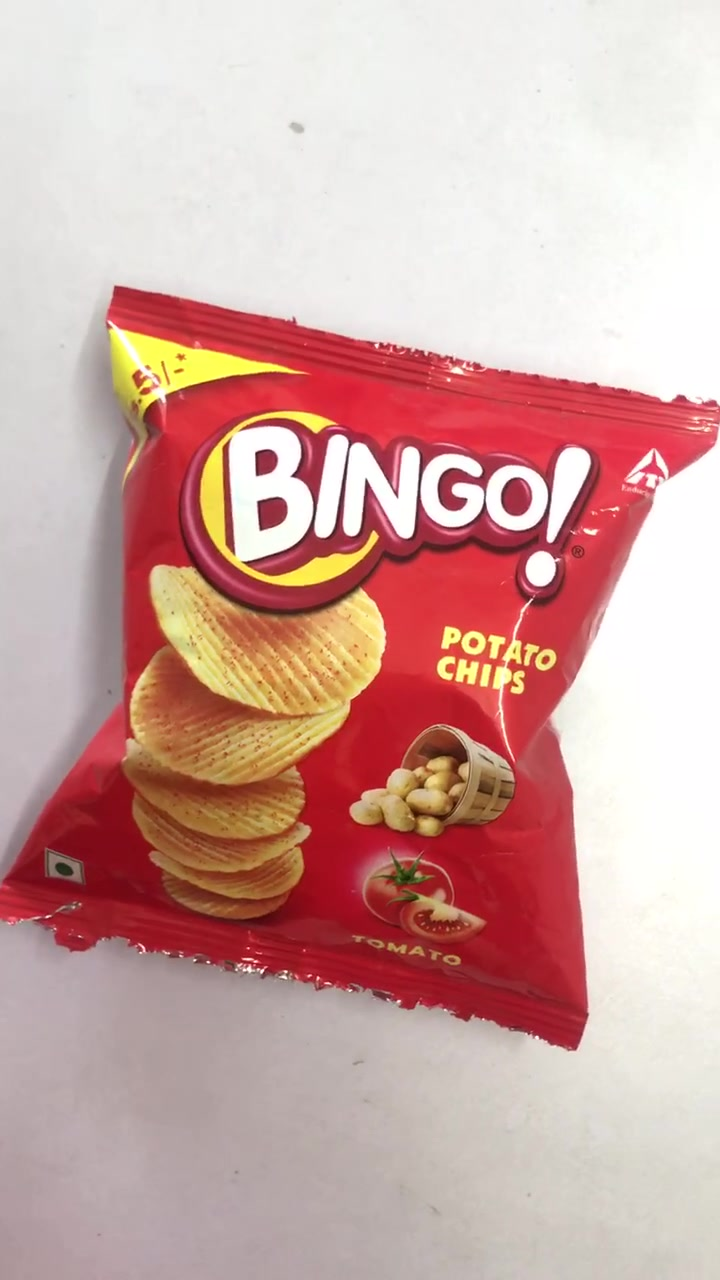Bingo: (1, 287, 720, 1050)
